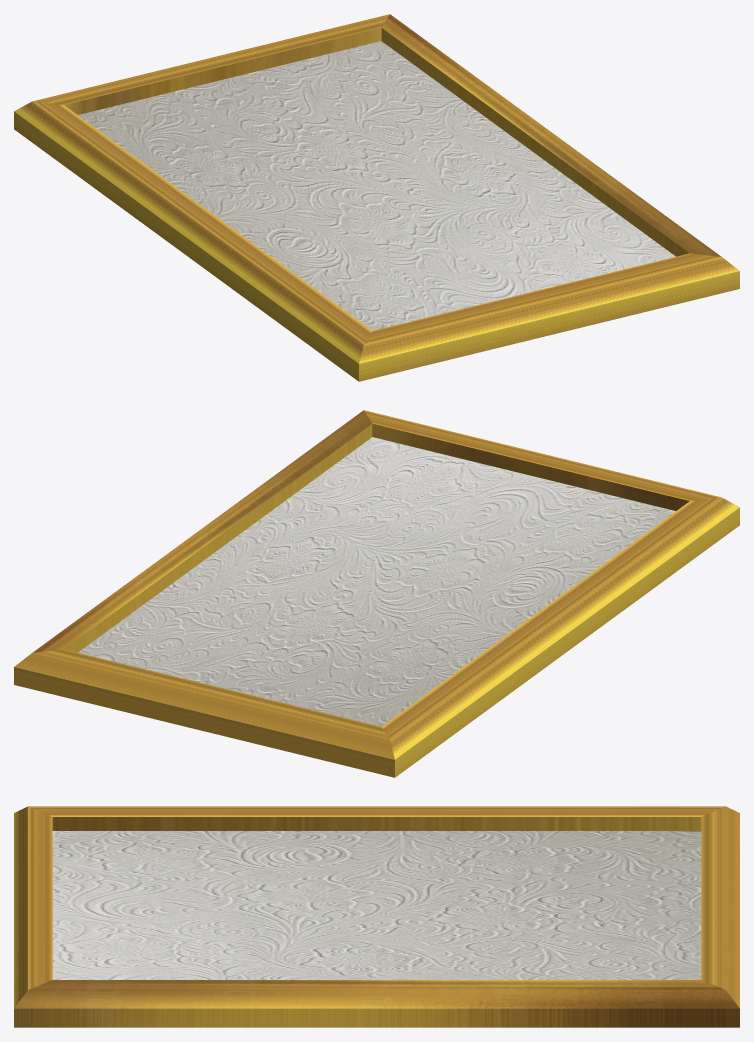
File: picture frame 2.fbx
The picture shows the model from 3 angles, top to bottom: view 1: azimuth 30°, elevation 25°; view 2: azimuth 150°, elevation 25°; view 3: azimuth 270°, elevation 25°; orthographic projection. The views are drawn at different scales.
Visible parts, largest first — view 1: pCube1; view 2: pCube1; view 3: pCube1.
Part boxes in pixels (bbox=[...]): pCube1: bbox=[14, 14, 739, 381]; pCube1: bbox=[14, 410, 739, 777]; pCube1: bbox=[14, 806, 739, 1027].
Bounding box in the file's own units: 4.8 × 0.3594 × 7.53.
2 materials, 2 textured.
